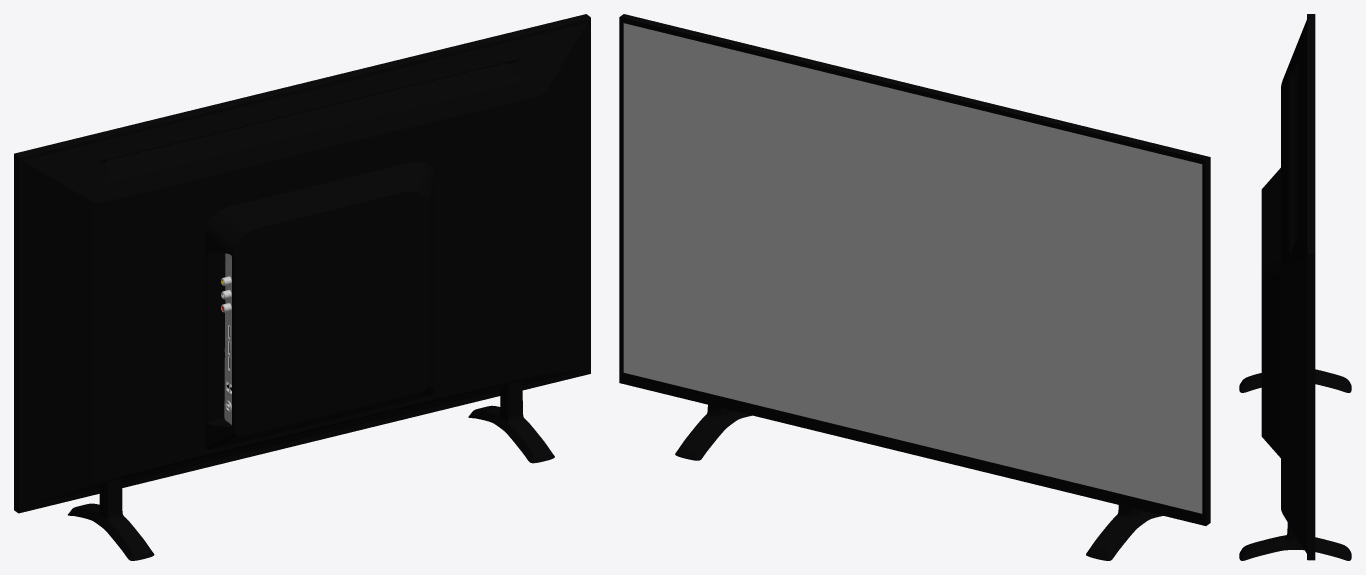
File: Televissor2.obj
3 views of the same model, side by side, from view 1: azimuth 30°, elevation 25°; view 2: azimuth 150°, elevation 25°; view 3: azimuth 270°, elevation 25° (orthographic). The views are drawn at different scales.
Parts seen in each view (by area): view 1: Plane.001, Cube.006, Plane.004; view 2: Plane.005, Plane.001, Cube.006; view 3: Plane.001, Cube.006.
Part boxes in pixels (x1,y1,x2,y2): Plane.001: (14, 14, 590, 513); Cube.006: (68, 381, 554, 560); Plane.004: (224, 253, 231, 424); Plane.005: (623, 23, 1202, 513); Plane.001: (619, 14, 1210, 525); Cube.006: (675, 404, 1162, 560); Plane.001: (1261, 14, 1315, 560); Cube.006: (1239, 369, 1351, 560).
Size of the model in its own units: 3.44 by 2.27 by 0.6833.
